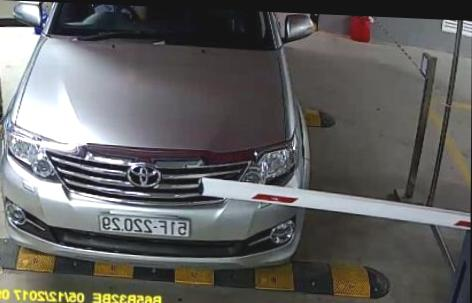License_Plate: (91, 208, 194, 245)
